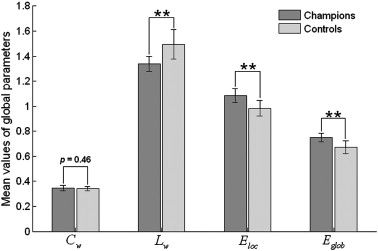OK_NoIssue: (1, 7, 378, 251)
